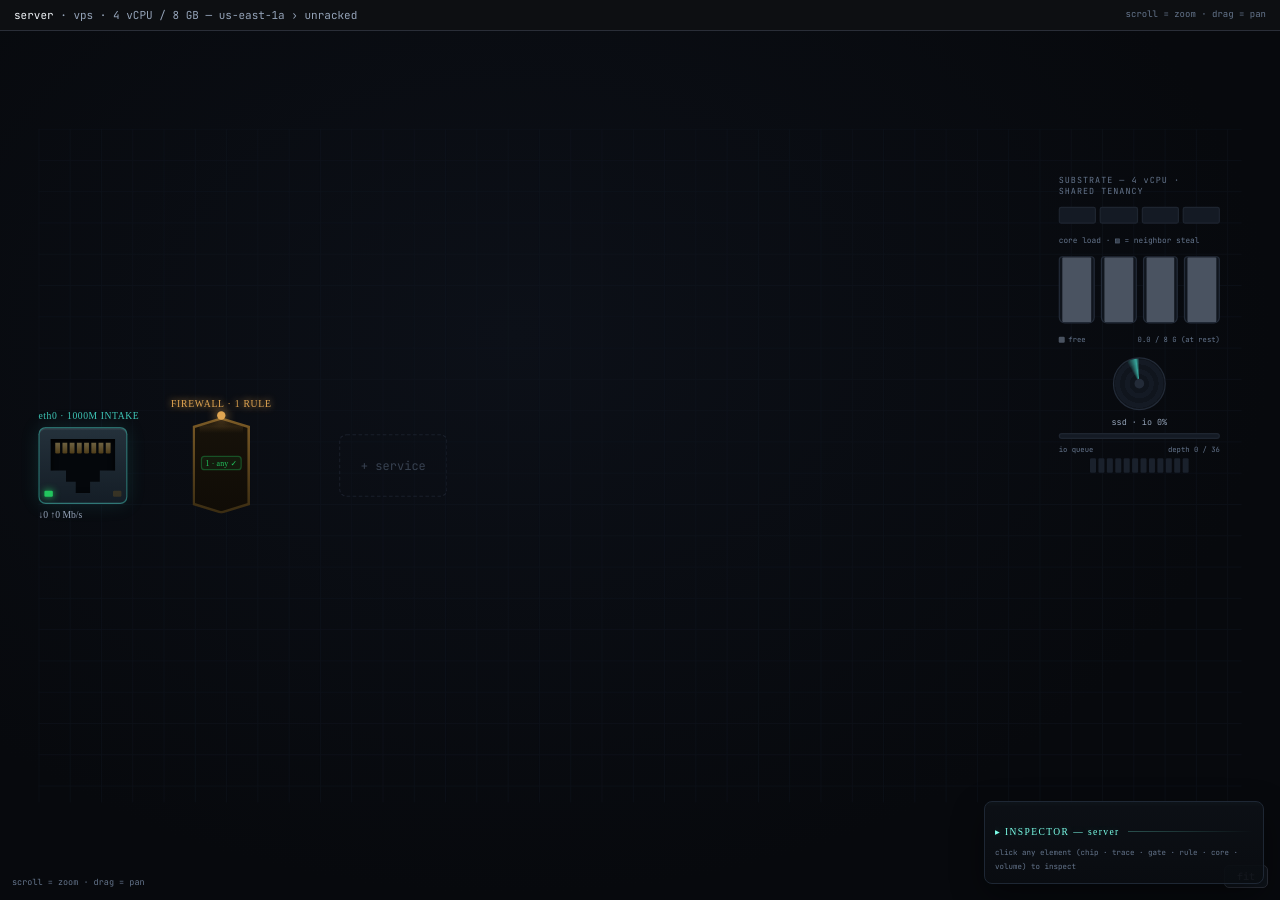
Test: ServerView interaction (selection model + Esc + cross-highlight) › esc clears selection without changing nav level
This screenshot has width=1280, height=900.
Step 1. Click the element showing "FIREWALL · 1 RULE 1 · any ✓" → {"x": 221, "y": 466}, box [192,417,250,514]
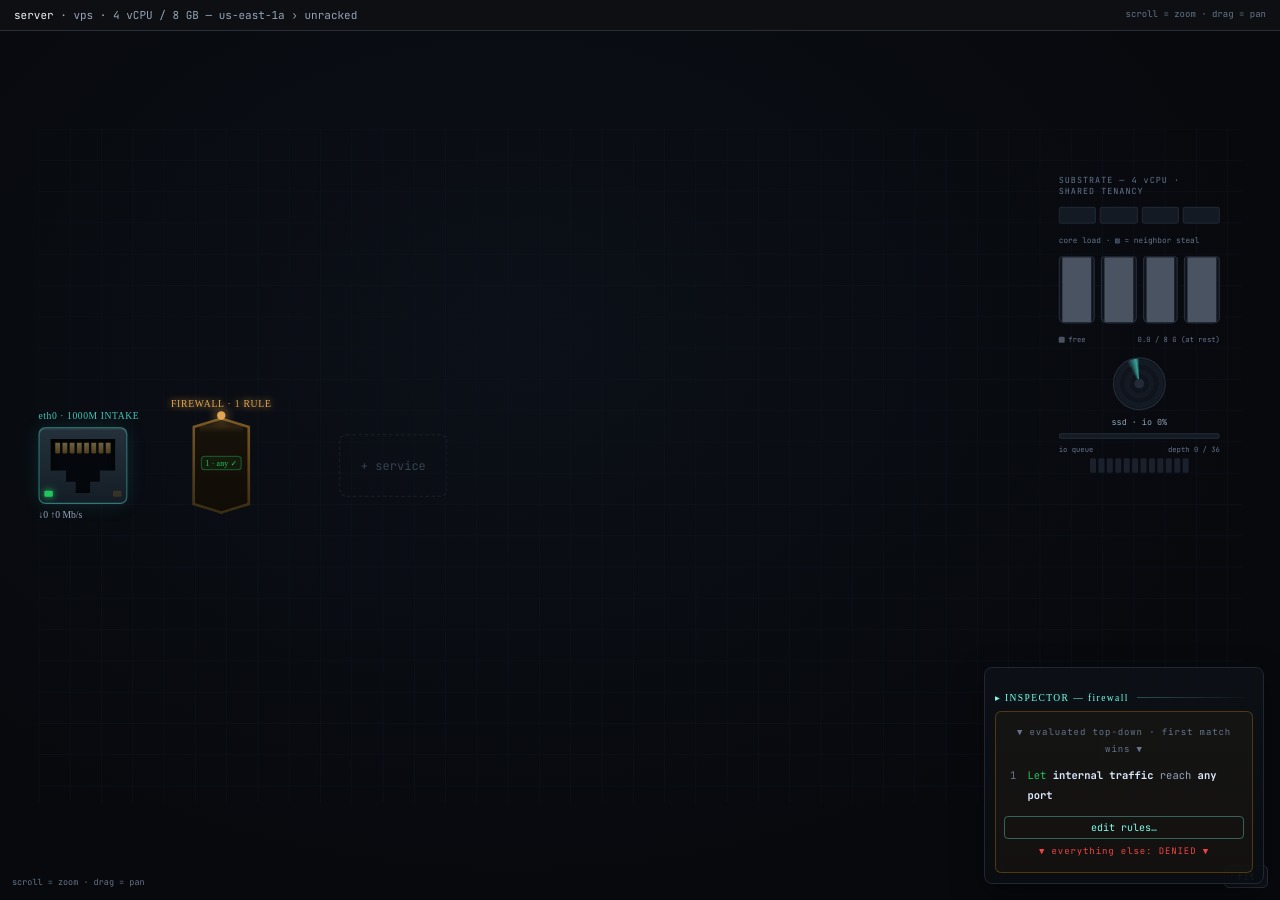
Expected: the text "▼ evaluated top-down · first match wins ▼" is shown, [1004,724,1244,758]
Step 2. Press Escape
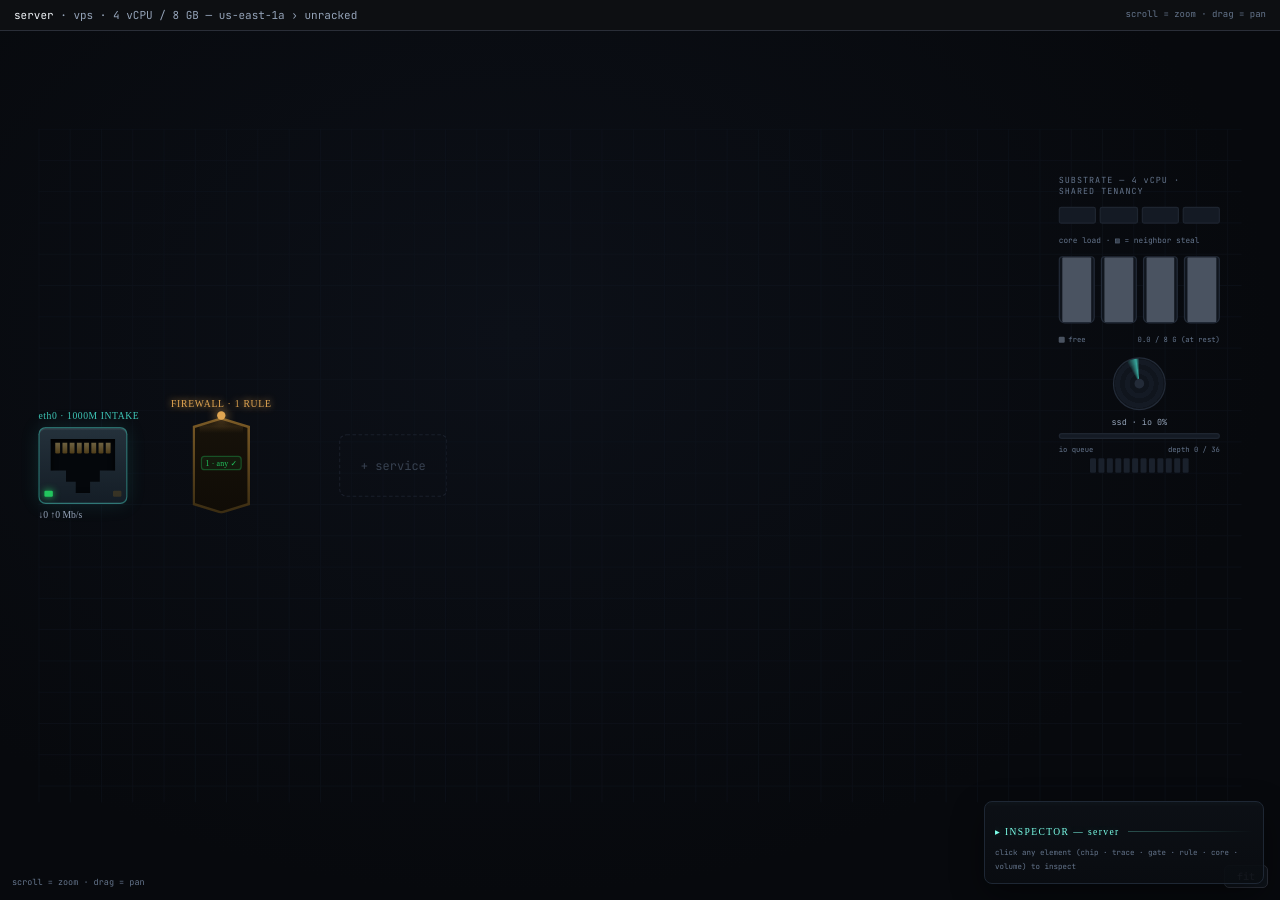
Expected: the text "server" is shown, [14,8,54,22]
Expected: the text "click any element" is shown, [995,846,1238,871]
